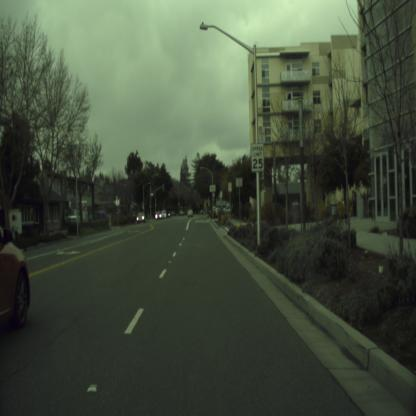Green: (193, 185, 196, 194), (155, 198, 157, 206)
